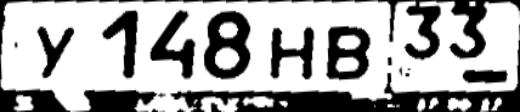1: (102, 9, 139, 80)
3: (403, 5, 443, 61), (451, 5, 488, 60)
4: (150, 10, 197, 80)
8: (203, 10, 252, 79)
B: (326, 26, 372, 80)
H: (269, 26, 314, 80)
Y: (35, 23, 75, 78)
